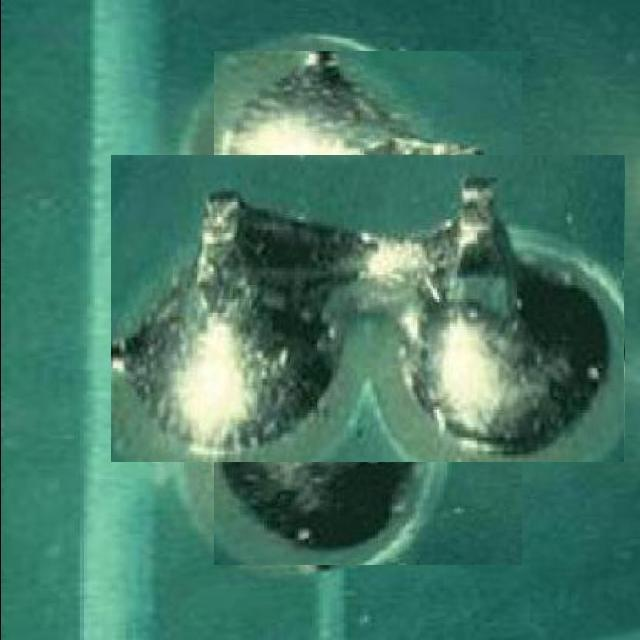Short_circuit: (163, 103, 574, 514)
